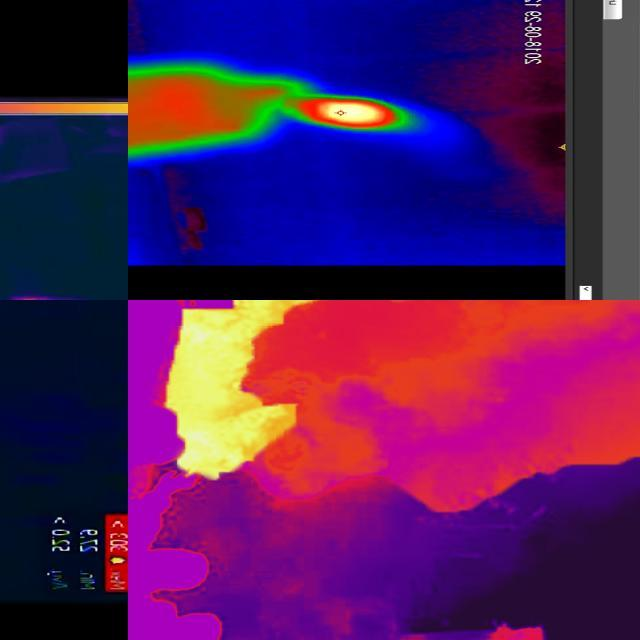fire: (157, 302, 317, 480), (287, 97, 415, 131)
